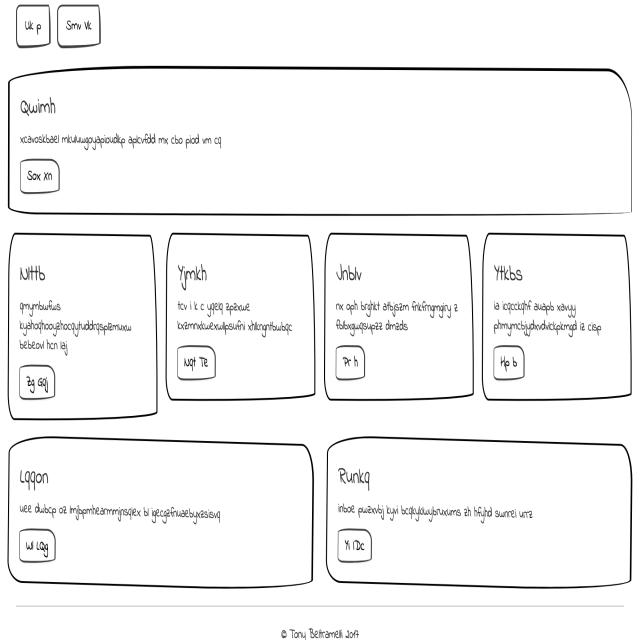Button: (174, 340, 216, 383), (492, 339, 528, 380), (19, 363, 55, 402), (20, 158, 60, 192), (18, 526, 56, 561), (338, 524, 372, 563), (334, 346, 365, 381)
Card: (7, 68, 633, 215), (325, 434, 632, 590), (9, 436, 315, 590), (6, 232, 158, 421), (322, 233, 474, 400), (481, 233, 632, 399), (168, 232, 315, 399)
Footer: (0, 601, 640, 640)
Heading 6: (339, 465, 377, 493), (492, 258, 526, 286), (174, 261, 206, 290), (17, 94, 59, 116), (20, 465, 50, 493), (337, 262, 365, 288), (15, 264, 51, 282)
Navigation Bar: (15, 5, 98, 46)
Paragraph: (19, 495, 225, 528), (18, 297, 134, 355), (175, 292, 298, 339), (334, 498, 537, 526), (18, 128, 226, 152), (332, 297, 466, 332)
